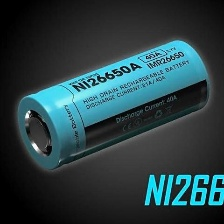battery: (13, 36, 215, 175)
